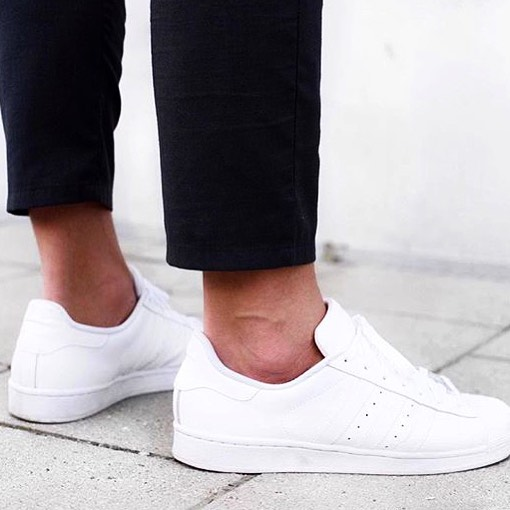sneaker: (139, 238, 510, 486), (1, 235, 251, 433)
